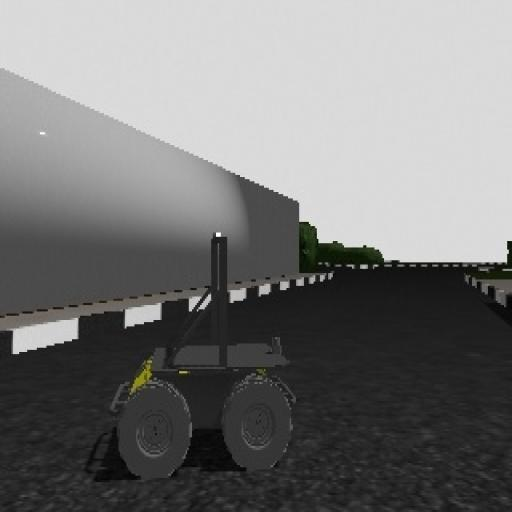huskya200: (81, 221, 315, 506)
